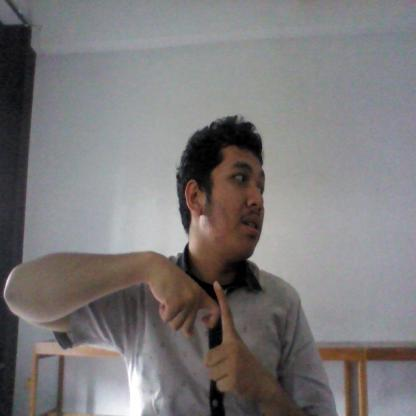K: (134, 250, 253, 401)
